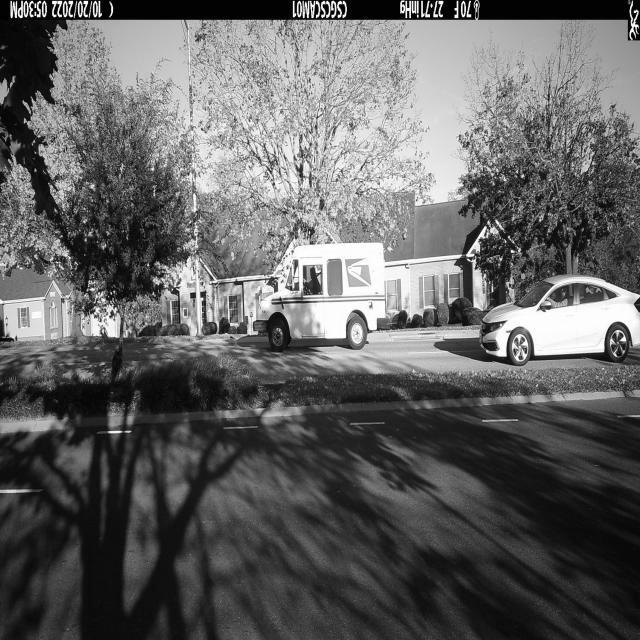Sedan: (479, 275, 640, 367)
Van: (253, 244, 388, 351)
